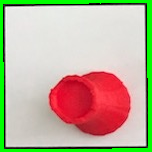Red Castle: (45, 68, 135, 139)
